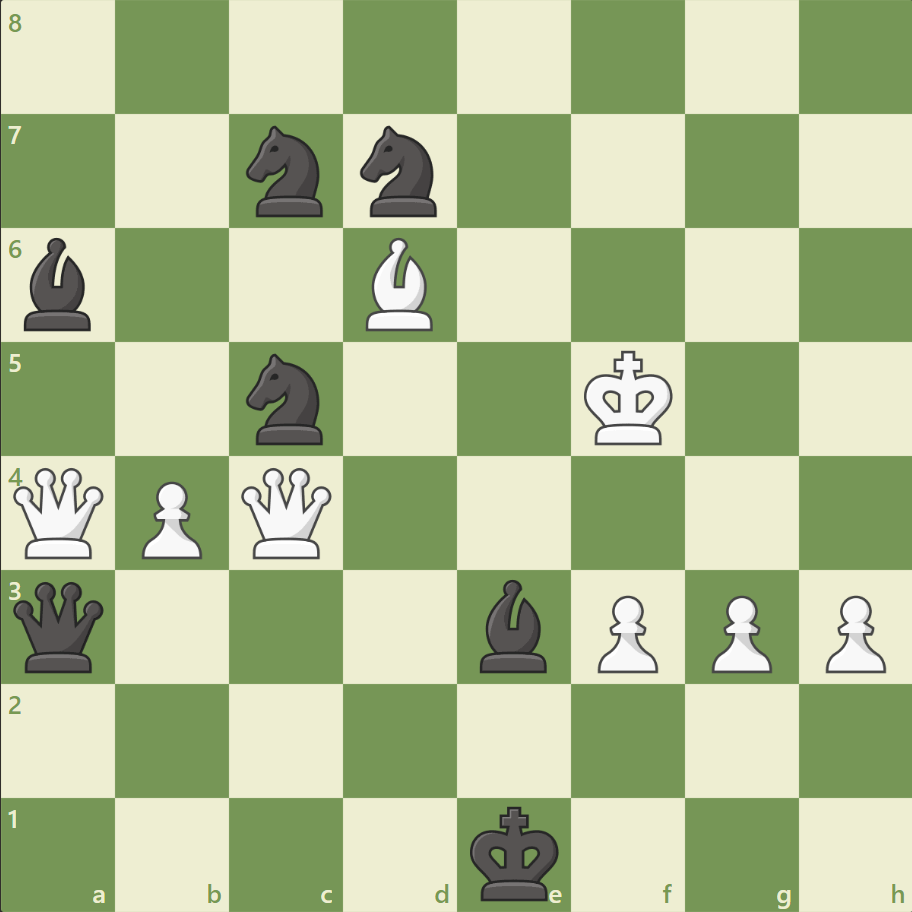B: (358, 233, 442, 336)
K: (579, 344, 679, 452)
P: (133, 473, 208, 564), (701, 586, 776, 677), (588, 586, 662, 677), (815, 586, 889, 677)
Q: (10, 463, 109, 562), (237, 463, 336, 562)
b: (17, 233, 101, 336), (471, 574, 555, 676)
k: (465, 798, 565, 906)
n: (351, 121, 449, 223), (238, 121, 335, 223), (238, 348, 335, 450)
q: (10, 576, 109, 676)
